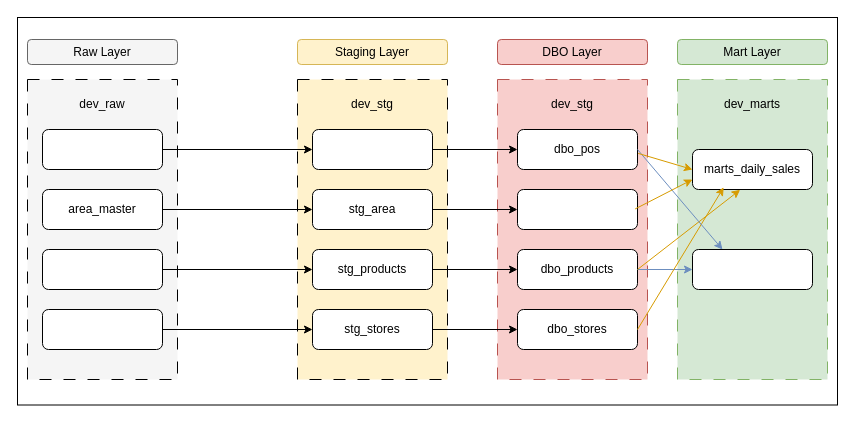
Image size: 855x423. Some labels were removed from this diagram. The box of each missing label's shape, as (x1, y1, x2, y2) in pixels:
coffee_master: (42, 248, 162, 290)
dbo_area: (516, 188, 638, 230)
marts_products _daily_sales: (692, 248, 812, 290)
pos: (42, 128, 162, 170)
stg_pos: (312, 128, 432, 170)
store_master: (42, 308, 162, 350)
